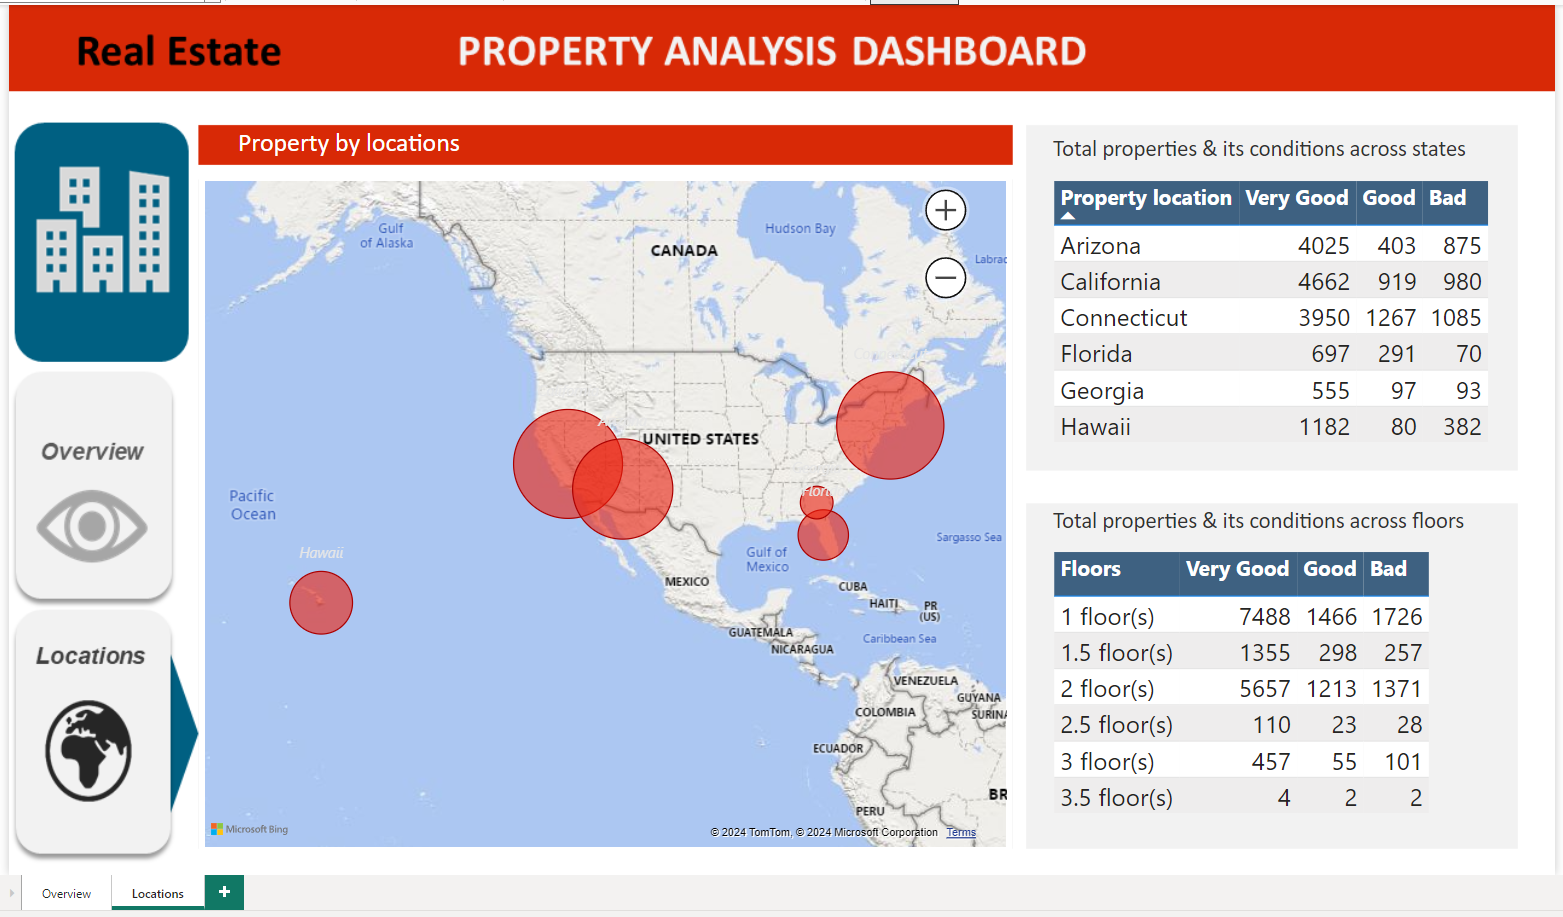

The page's visual inventory and layout, read from the dashboard file:
{"tool":"powerbi","page":{"name":"Locations","canvas":[1280,720],"ordinal":1},"visuals":[{"type":"textbox","box":[184.3,96.4,385.5,43.9],"z":0},{"type":"map","fields":{"Size":["Measures Table.Total properties"],"Category":["Dim_Location.Property location"]},"box":[157.3,140.3,673.2,561.3],"z":1000},{"type":"textbox","box":[858.9,102,385.5,43.9],"z":2000},{"type":"tableEx","fields":{"Values":["Dim_Location.Property location","Measures Table.Very Good","Measures Table.Good","Measures Table.Bad"]},"box":[858.9,140.3,385.5,243.8],"z":3000},{"type":"textbox","box":[859,409.7,385.5,43.9],"z":4000},{"type":"tableEx","fields":{"Values":["Dim_Floors.Floors","Measures Table.Very Good","Measures Table.Good","Measures Table.Bad"]},"box":[858.9,447.9,385.5,243.8],"z":5000},{"type":"shape","box":[22.7,395.4,95,69.4],"z":6000}]}

Visuals, with their boxes on the page's 1280x720 design canvas (x1, y1, x2, y2). These are canvas units, not pixel positions in the 1563x917 screenshot, which may show the page scaled, cropped or inside an application window:
textbox: l=184, t=96, r=570, b=140
map - Measures Table.Total properties x Dim_Location.Property location: l=157, t=140, r=830, b=702
textbox: l=859, t=102, r=1244, b=146
tableEx - Dim_Location.Property location x Measures Table.Very Good: l=859, t=140, r=1244, b=384
textbox: l=859, t=410, r=1244, b=454
tableEx - Dim_Floors.Floors x Measures Table.Very Good: l=859, t=448, r=1244, b=692
shape: l=23, t=395, r=118, b=465
